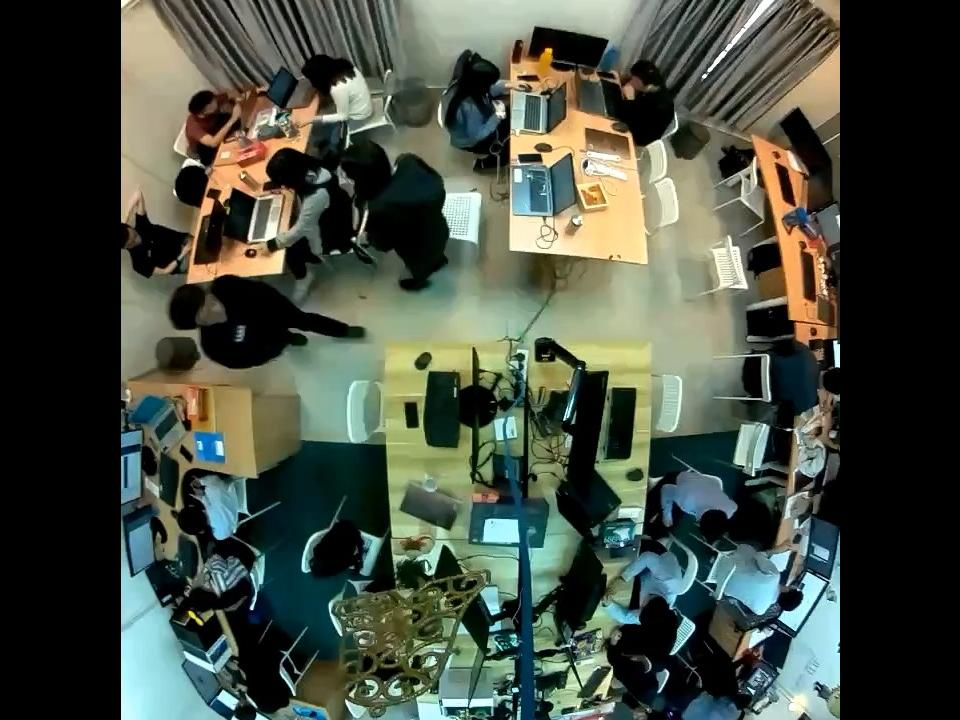name-tag: (234, 325, 246, 343)
